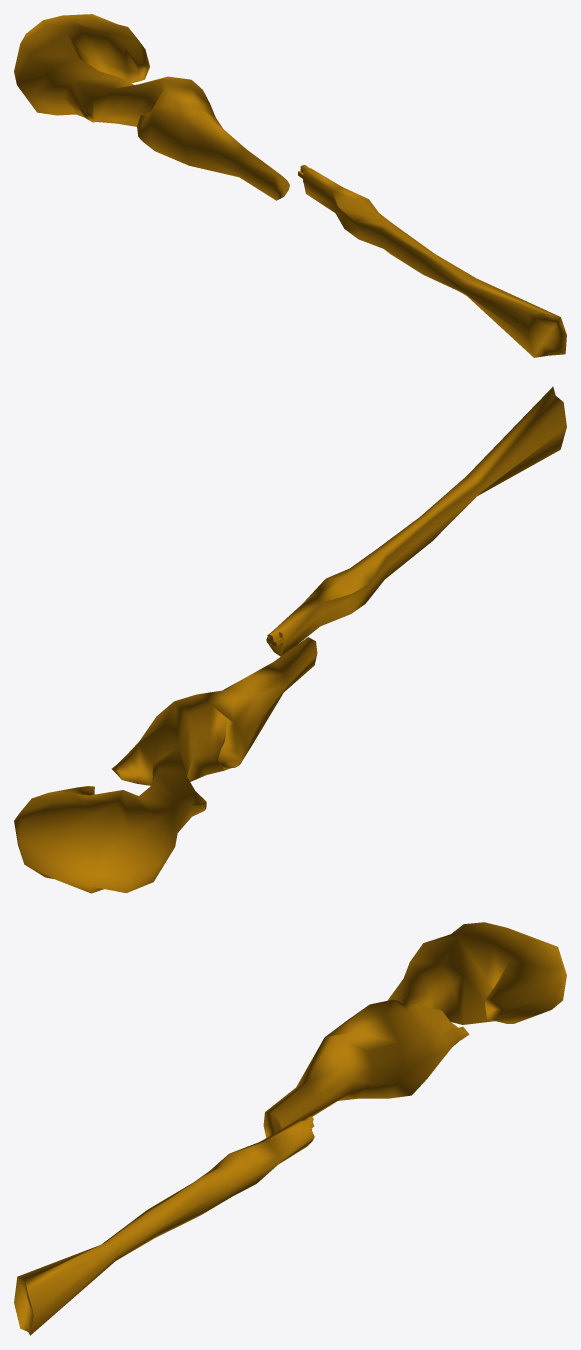
File: Baton_casse.fbx
3 views of the same model, one above another, from view 1: azimuth 30°, elevation 25°; view 2: azimuth 150°, elevation 25°; view 3: azimuth 330°, elevation 25° (orthographic). The views are drawn at different scales.
Visible parts, largest first — view 1: Bâton2, Bâton6; view 2: Bâton2, Bâton6; view 3: Bâton2, Bâton6.
Part boxes in pixels (x1,y1,x2,y2): Bâton2: (14, 14, 289, 200); Bâton6: (298, 165, 566, 357); Bâton2: (14, 637, 317, 893); Bâton6: (266, 386, 566, 656); Bâton2: (263, 922, 566, 1137); Bâton6: (14, 1116, 314, 1335).
Bounding box in the file's own units: 18.49 × 14.56 × 126.
